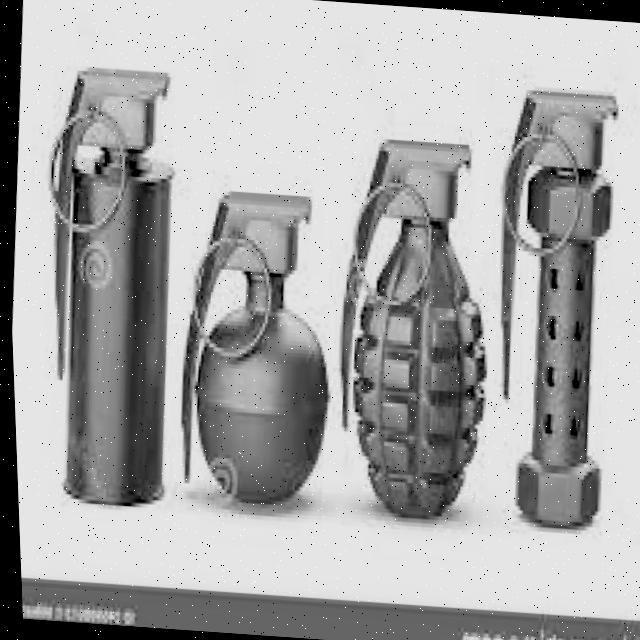grenade: (9, 61, 640, 553)
